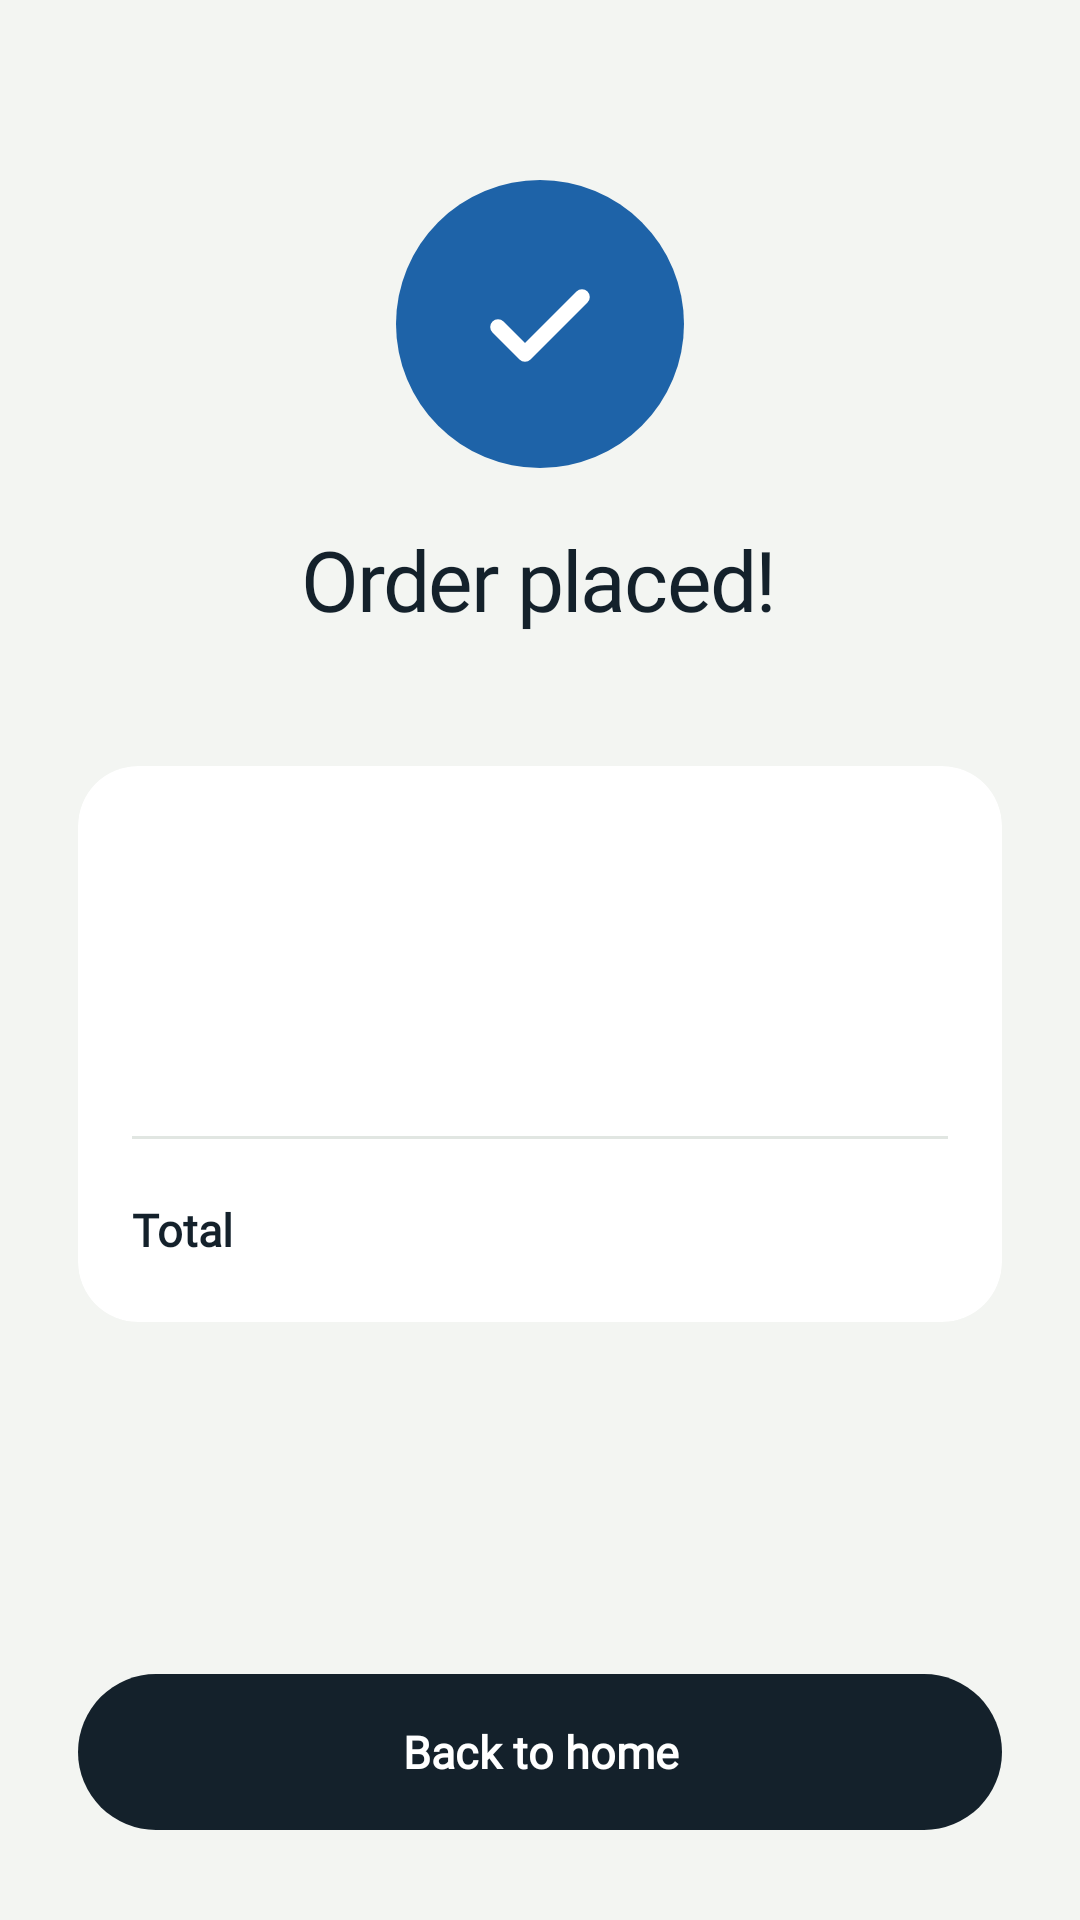

Screen size 1080px×1920px. Icon name, then its center in pixels as point (x, y):
check: point (540, 325)
